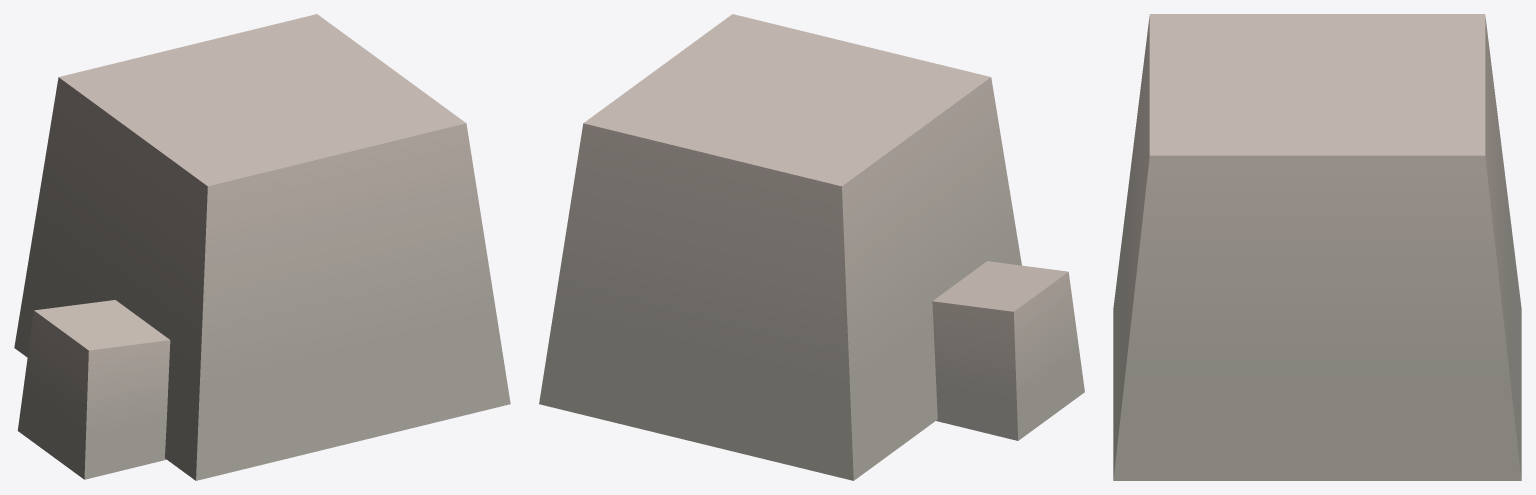
Rendered from [OBJ]Pedra.fbx.
3 renders of one model, left to right at view 1: azimuth 30°, elevation 25°; view 2: azimuth 150°, elevation 25°; view 3: azimuth 270°, elevation 25°, orthographic. The views are drawn at different scales.
Visible parts, largest first — view 1: [OBJ]Pedra; view 2: [OBJ]Pedra; view 3: [OBJ]Pedra.
Part boxes in pixels (x1=…): [OBJ]Pedra: x1=14, y1=14, x2=510, y2=480; [OBJ]Pedra: x1=539, y1=14, x2=1084, y2=480; [OBJ]Pedra: x1=1113, y1=14, x2=1521, y2=480.
Bounding box in the file's own units: 25.89 × 17.38 × 20.61.
